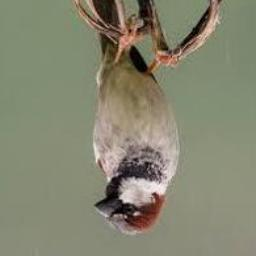Sparrow: (91, 0, 181, 236)
